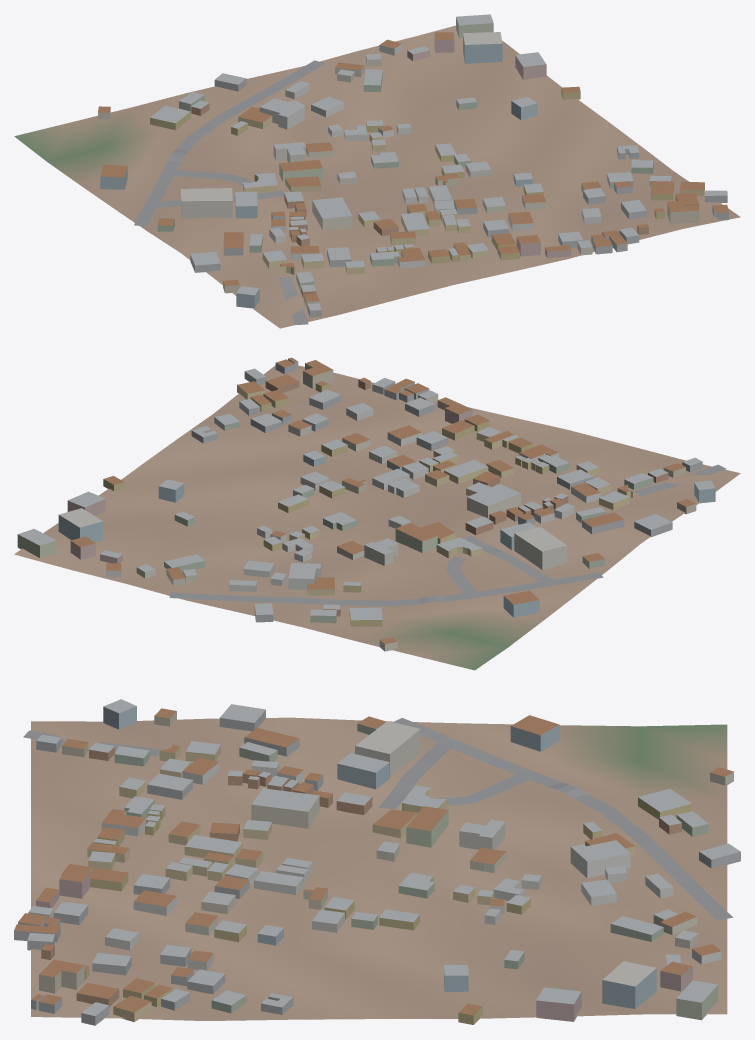
The picture shows the model from 3 angles, top to bottom: view 1: azimuth 30°, elevation 25°; view 2: azimuth 150°, elevation 25°; view 3: azimuth 270°, elevation 25°; orthographic projection. The views are drawn at different scales.
Parts seen in each view (by area): view 1: Lo; view 2: Lo; view 3: Lo.
Boxes of the visible parts, x1,y1,x2,y2 form: Lo: (14,14,740,328); Lo: (14,357,740,670); Lo: (14,699,740,1025).
Size of the model in its own units: 267 by 13.54 by 267.
